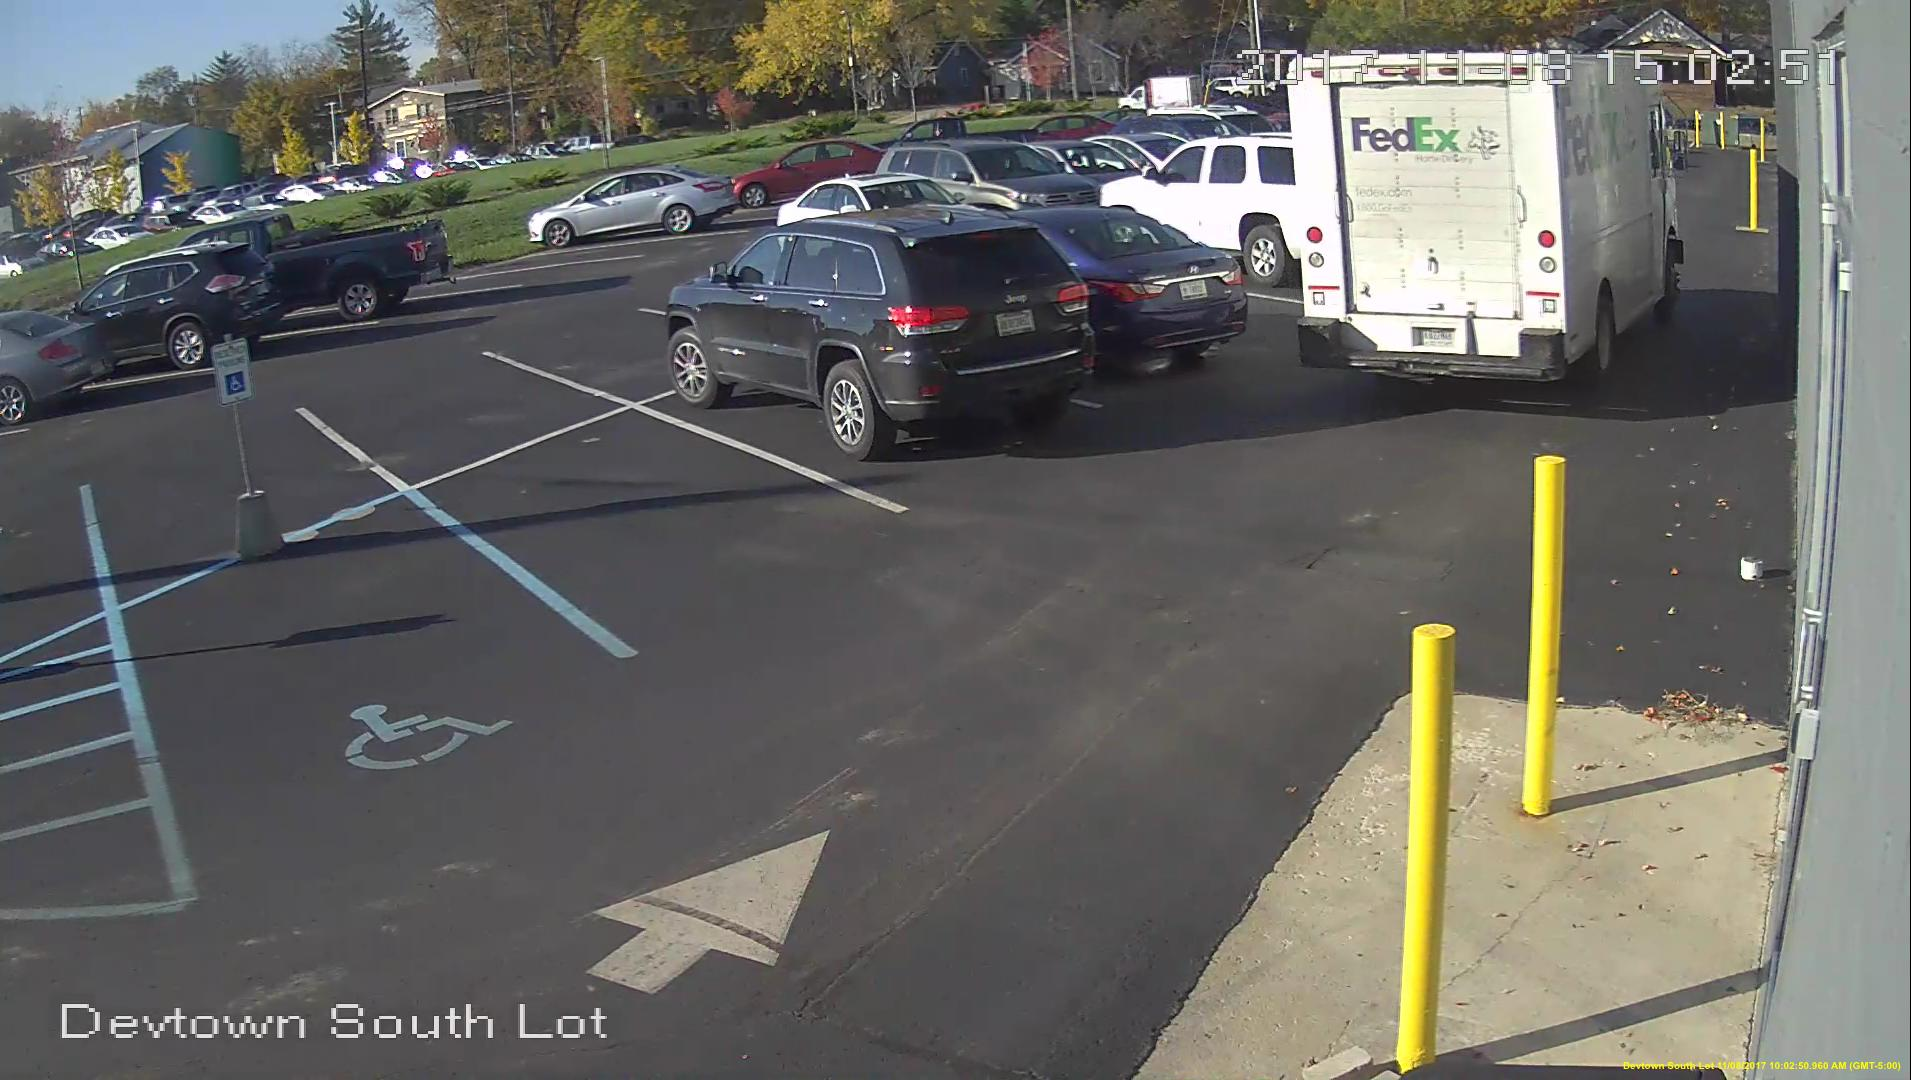fedex_truck: (1284, 49, 1690, 390)
